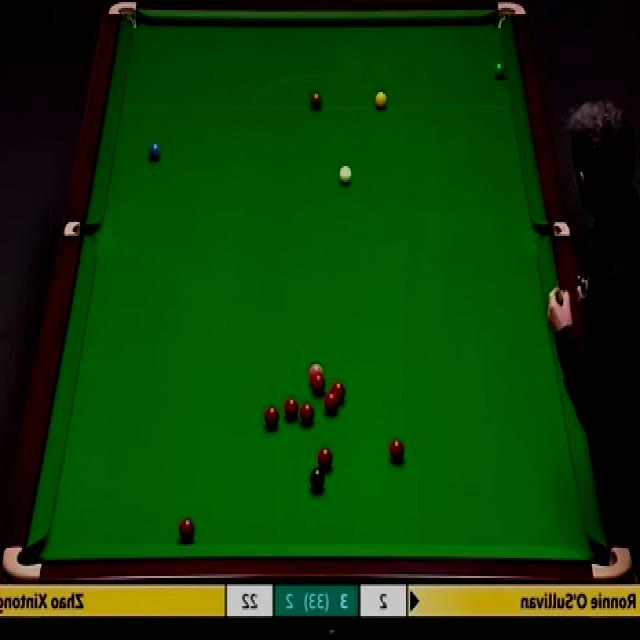pocket: (588, 542, 634, 582), (3, 543, 45, 582), (108, 0, 140, 32), (494, 0, 528, 29), (63, 218, 100, 237), (538, 222, 574, 238)
